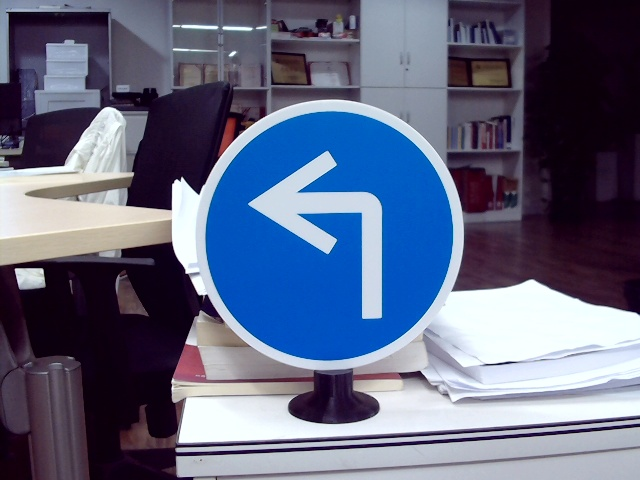turn_left: (255, 145, 390, 326)
